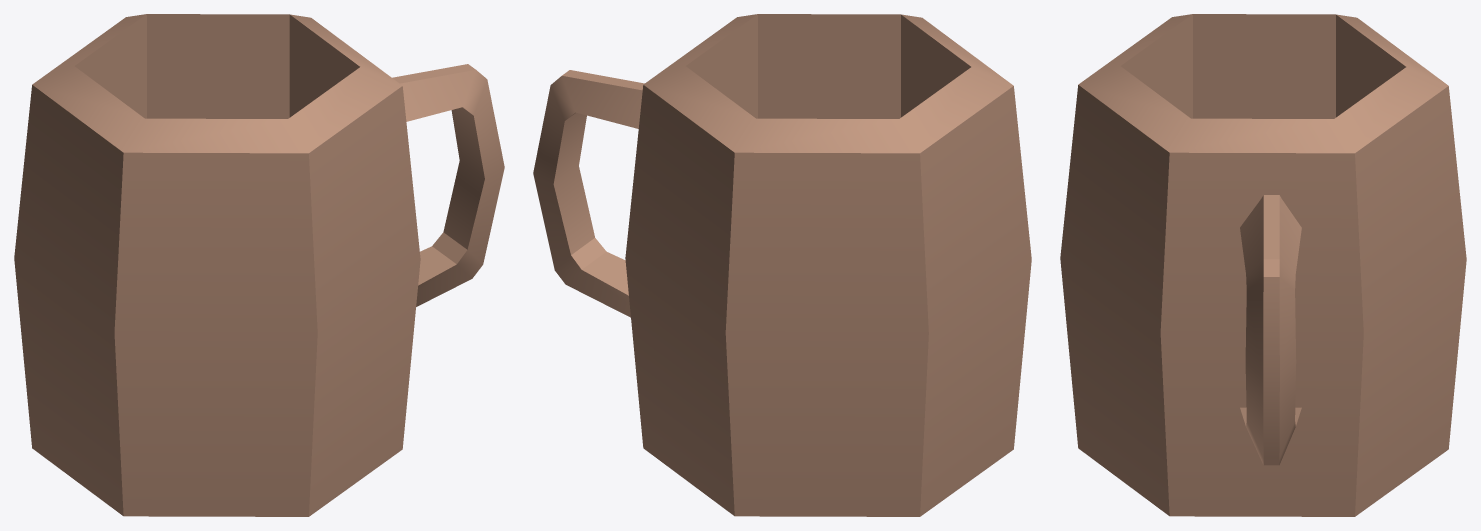
Rendered from Cup.fbx.
The picture shows the model from 3 angles, left to right: view 1: azimuth 30°, elevation 25°; view 2: azimuth 150°, elevation 25°; view 3: azimuth 270°, elevation 25°; orthographic projection.
Parts seen in each view (by area): view 1: Cylinder005; view 2: Cylinder005; view 3: Cylinder005.
Boxes of the visible parts, bbox=[...] form: Cylinder005: bbox=[14, 14, 504, 516]; Cylinder005: bbox=[533, 14, 1031, 516]; Cylinder005: bbox=[1060, 14, 1466, 516].
Bounding box in the file's own units: 21.02 × 17.44 × 16.8.
1 material, 1 textured.
